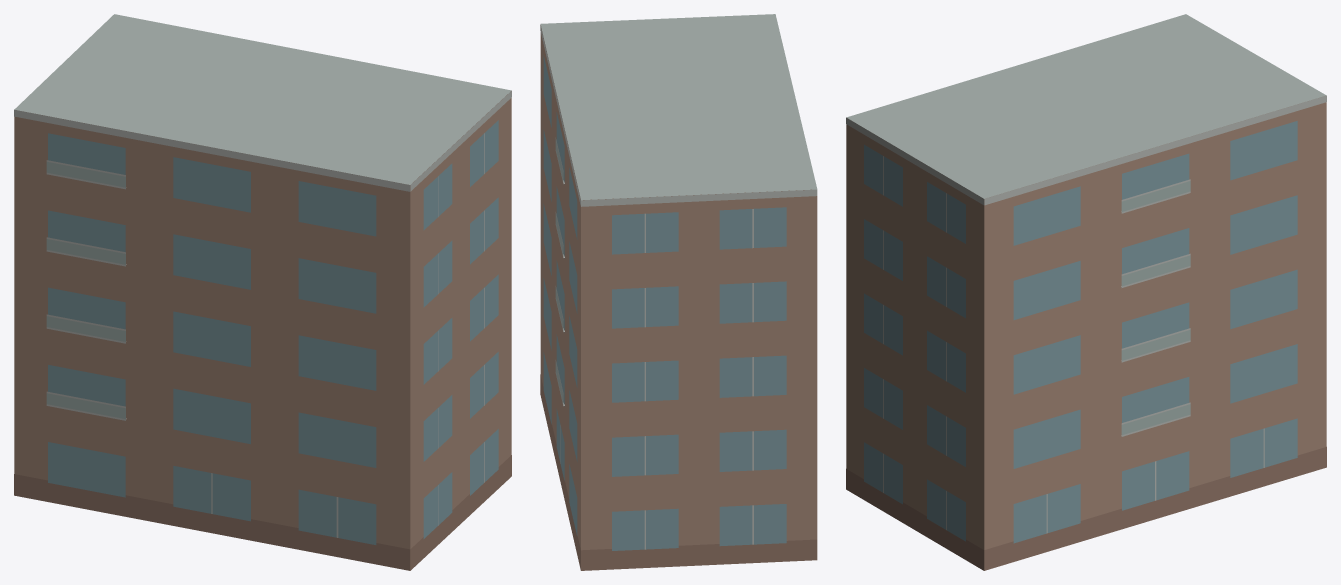
Rendered from survey-upis-32509534.glb.
The picture shows the model from 3 angles, left to right: view 1: azimuth 30°, elevation 25°; view 2: azimuth 150°, elevation 25°; view 3: azimuth 270°, elevation 25°; orthographic projection. The views are drawn at different scales.
Parts seen in each view (by area): view 1: survey-upis-32509534.tmp; view 2: survey-upis-32509534.tmp; view 3: survey-upis-32509534.tmp.
Boxes of the visible parts, left/top/right/bottom form: survey-upis-32509534.tmp: left=14, top=14, right=511, bottom=570; survey-upis-32509534.tmp: left=540, top=14, right=817, bottom=570; survey-upis-32509534.tmp: left=846, top=14, right=1326, bottom=570.
Size of the model in its own units: 14.56 by 13.65 by 15.99.
